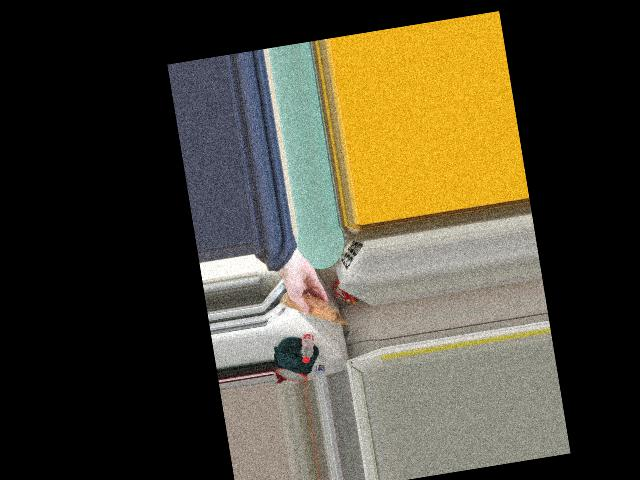sweet_potato: (294, 289, 332, 327)
